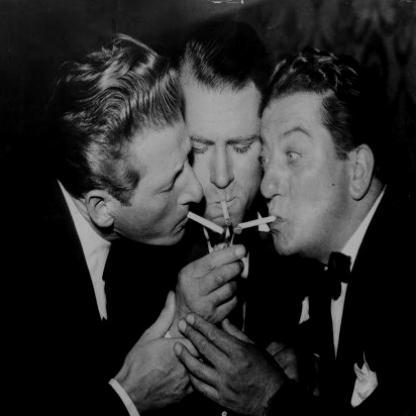cigarette: (187, 208, 226, 237), (237, 213, 278, 231), (219, 198, 233, 226)
person: (38, 35, 205, 260), (258, 43, 390, 266), (179, 18, 278, 243)
